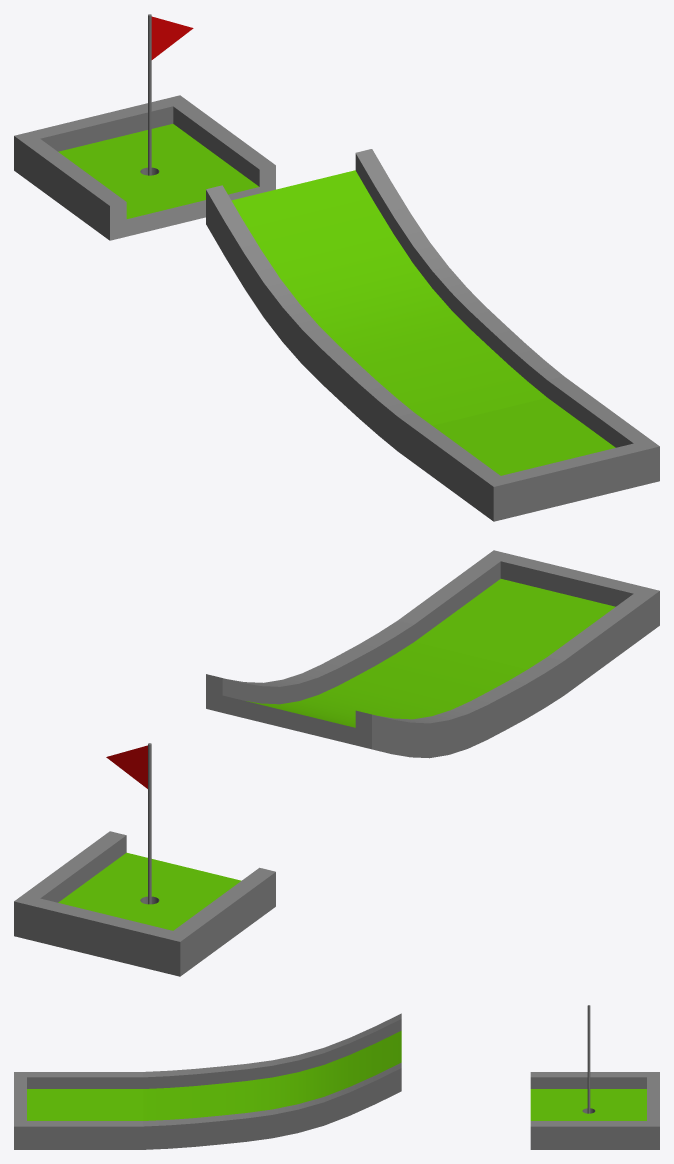
The model's file is course3.fbx.
3 renders of one model, top to bottom at view 1: azimuth 30°, elevation 25°; view 2: azimuth 150°, elevation 25°; view 3: azimuth 270°, elevation 25°, orthographic. The views are drawn at different scales.
Parts seen in each view (by area): view 1: middle10, end, start2, flag2, flag3; view 2: middle10, end, start2, flag2, flag3; view 3: middle10, start2, end, flag3.
Boxes of the visible parts, x1,y1,x2,y2 form: middle10: (206, 149, 563, 451); end: (14, 95, 275, 240); start2: (398, 376, 659, 521); flag2: (151, 16, 193, 59); flag3: (148, 14, 192, 175); middle10: (206, 620, 563, 758); end: (14, 831, 275, 976); start2: (398, 550, 659, 695); flag2: (106, 745, 147, 788); flag3: (106, 743, 151, 904); middle10: (143, 1013, 401, 1149); start2: (14, 1072, 143, 1149); end: (530, 1072, 659, 1149); flag3: (587, 1005, 590, 1113).
Bounding box in the file's own units: 10 × 10 × 50.
